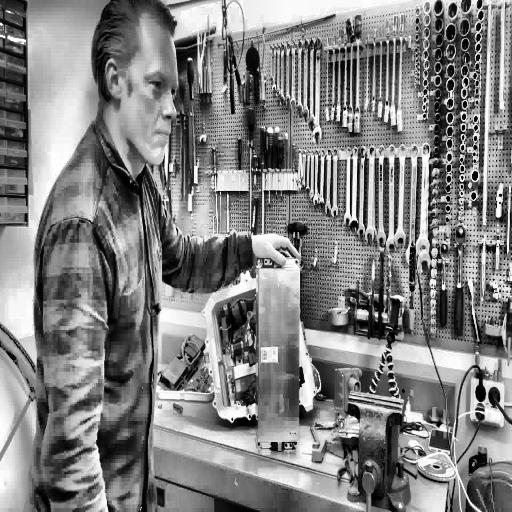battery_module: (259, 268, 299, 442)
